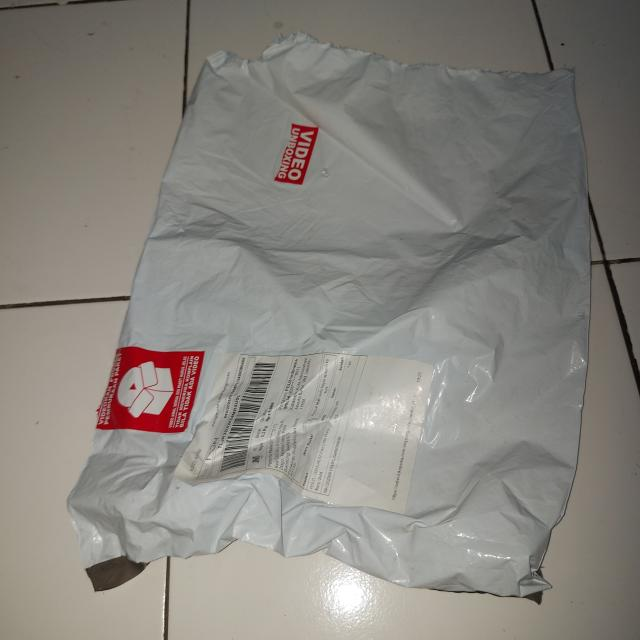Anorganik: (71, 29, 597, 601)
